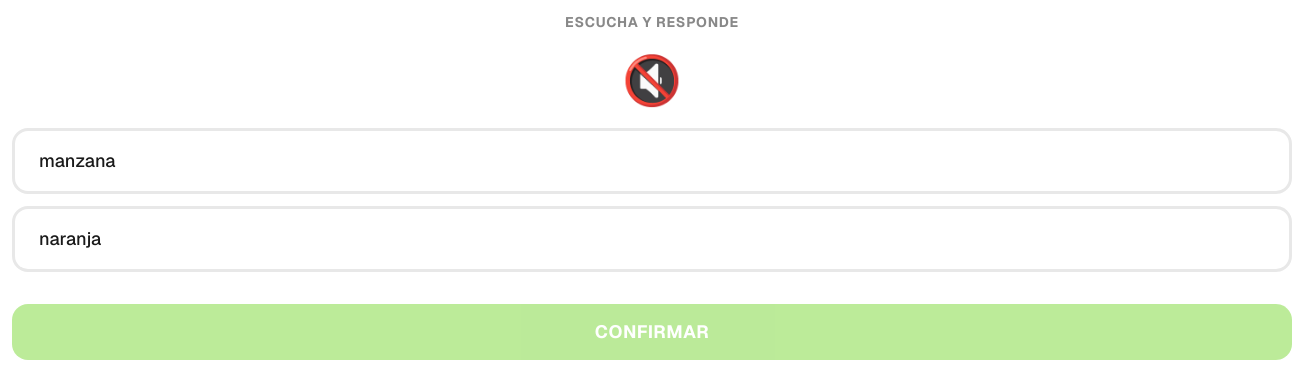
Test: ExerciseCard › LISTENING: deshabilita el botón de play al hacer clic
This screenshot has width=1304, height=377.
Click the button named "Escuchar pronunciación": (652, 80) [622, 56, 682, 104]
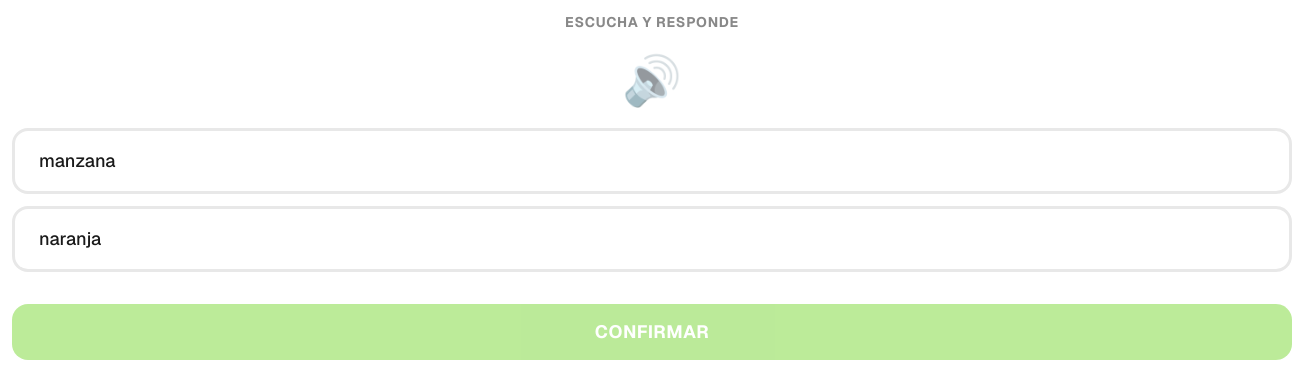
Check: the button named "Escuchar pronunciación" is disabled, box [622, 56, 682, 104]
